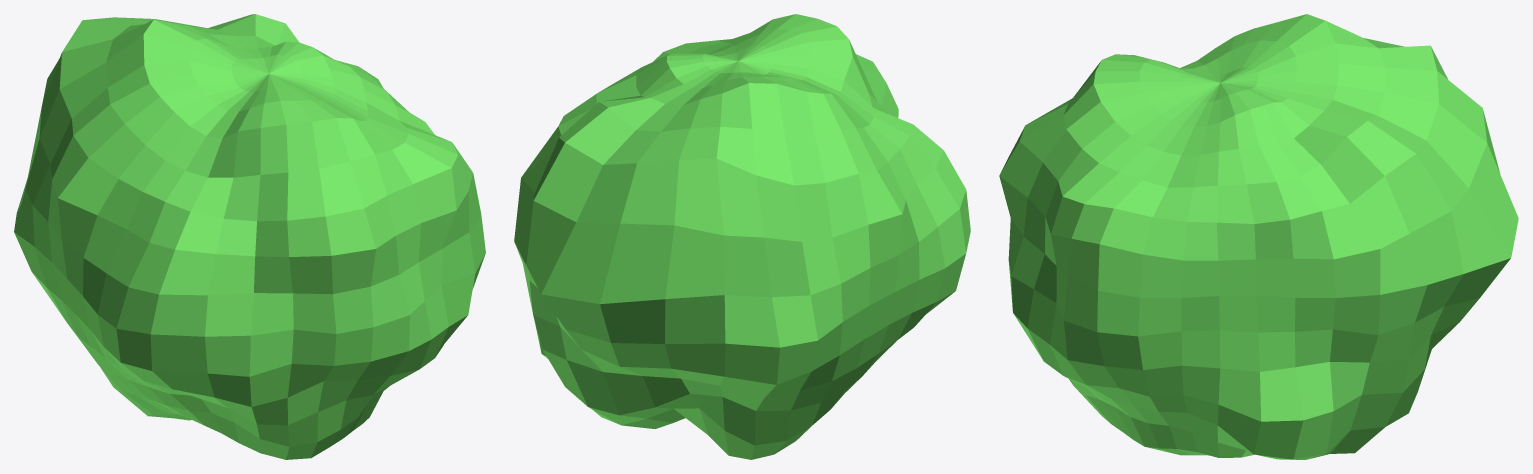
Rendered from XR_ProteinTest.fbx.
The picture shows the model from 3 angles, left to right: view 1: azimuth 30°, elevation 25°; view 2: azimuth 150°, elevation 25°; view 3: azimuth 270°, elevation 25°; orthographic projection. The views are drawn at different scales.
Visible parts, largest first — view 1: Sphere; view 2: Sphere; view 3: Sphere.
Part boxes in pixels (bbox=[...]): Sphere: bbox=[14, 14, 485, 459]; Sphere: bbox=[514, 14, 970, 459]; Sphere: bbox=[999, 14, 1518, 459].
Size of the model in its own units: 127 by 126 by 153.
